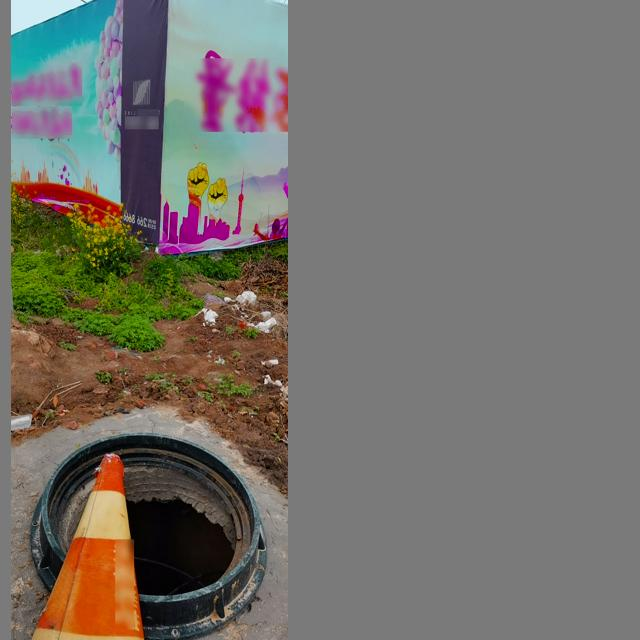lose: (30, 431, 265, 640)
